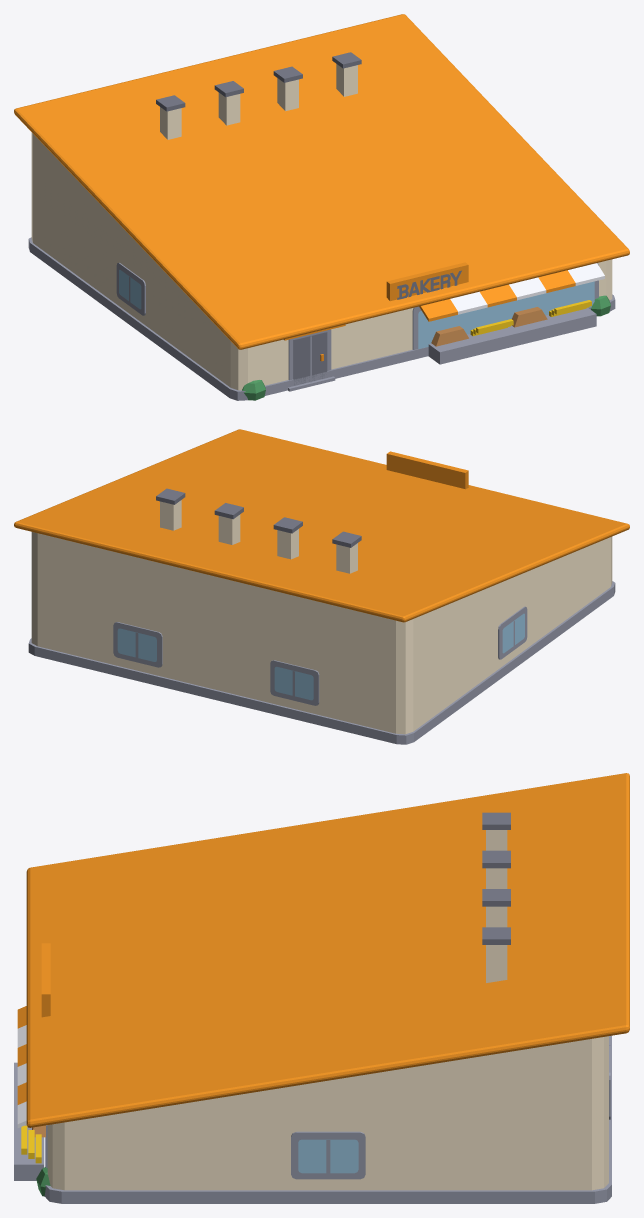
Rendered from bakery-2x2-t4-tone-a.glb.
The picture shows the model from 3 angles, top to bottom: view 1: azimuth 30°, elevation 25°; view 2: azimuth 150°, elevation 25°; view 3: azimuth 270°, elevation 25°; orthographic projection. The views are drawn at different scales.
Visible parts, largest first — view 1: bakery-2x2-t4-tone-a; view 2: bakery-2x2-t4-tone-a; view 3: bakery-2x2-t4-tone-a.
Boxes of the visible parts, bbox=[...] form: bakery-2x2-t4-tone-a: bbox=[14, 14, 629, 400]; bakery-2x2-t4-tone-a: bbox=[14, 429, 629, 744]; bakery-2x2-t4-tone-a: bbox=[14, 773, 629, 1203].
Size of the model in its own units: 2 by 0.7426 by 2.04.
Materials: 1 (1 with a texture image).
